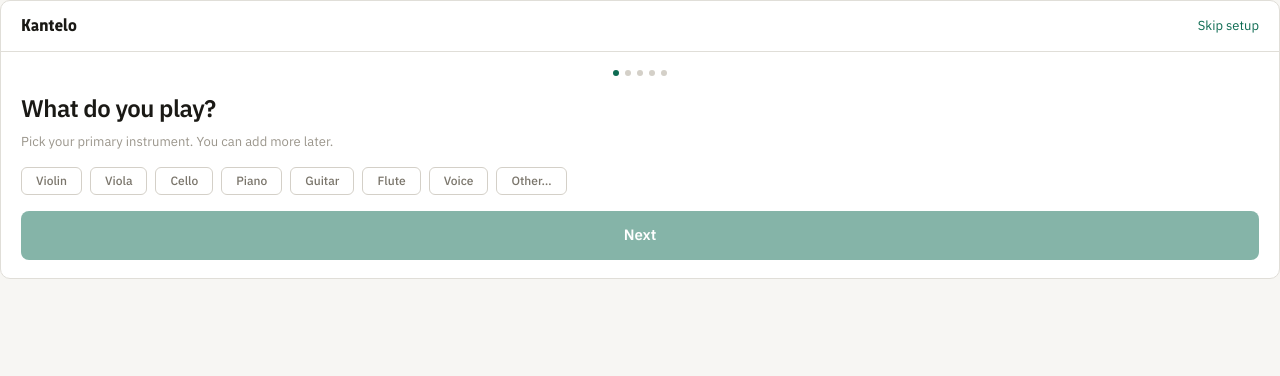
Test: QuickStartWizard — validation › blocks the goal step while the field is blank
This screenshot has width=1280, height=376.
Click the button "Violin" at [52, 181], box [21,167,82,195]
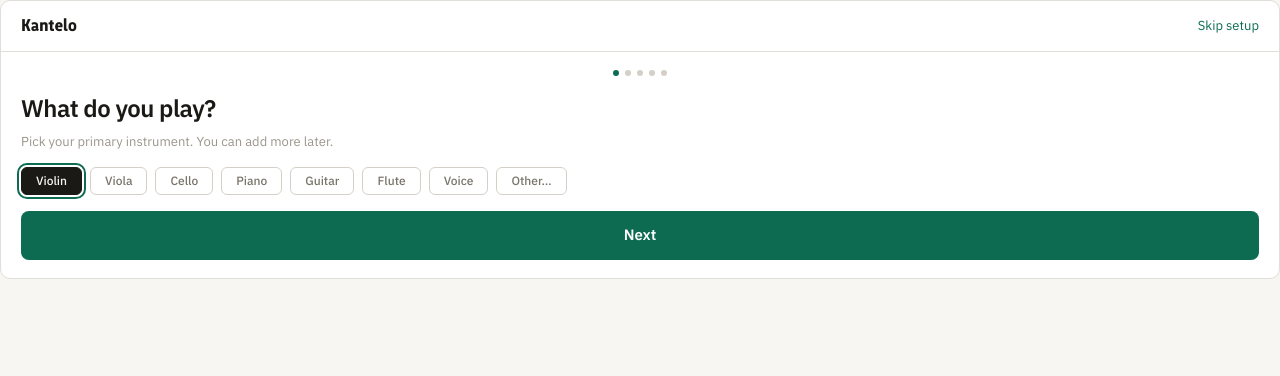
Click the button "Next" at [640, 236], box [21,211,1259,260]
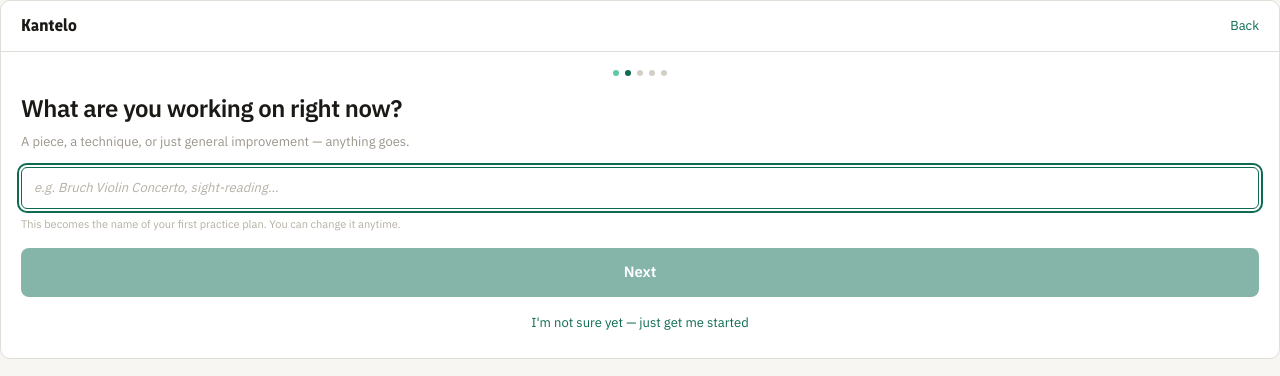
Check: the button "Next" is disabled, box [21,248,1259,297]
Type "Sight-reading" into the field named "What are you working on right now?" at [640, 188], box [21,167,1259,209]
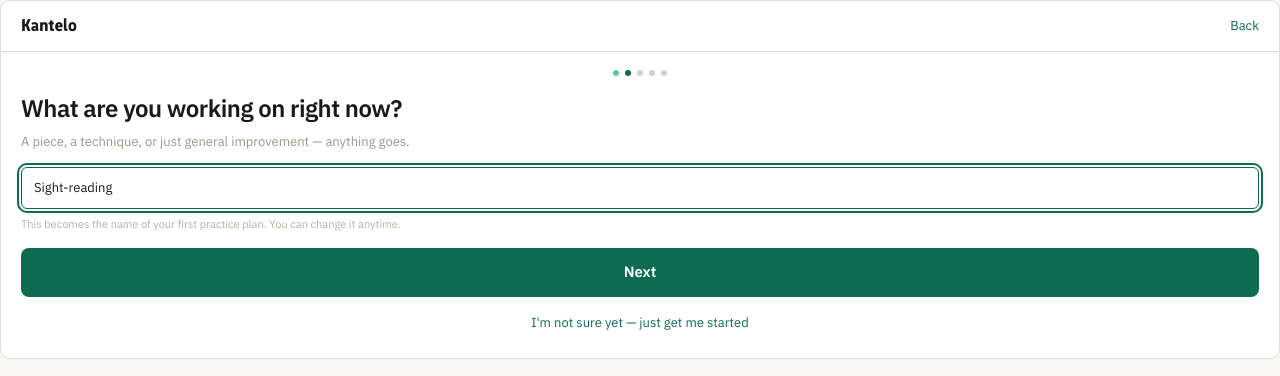
Check: the button "Next" is enabled, box [21,248,1259,297]
